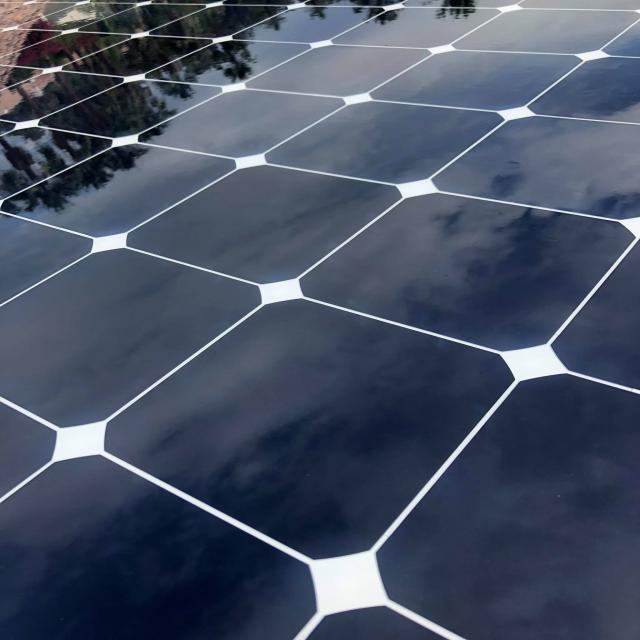clean-solar-panel: (0, 1, 640, 640)
